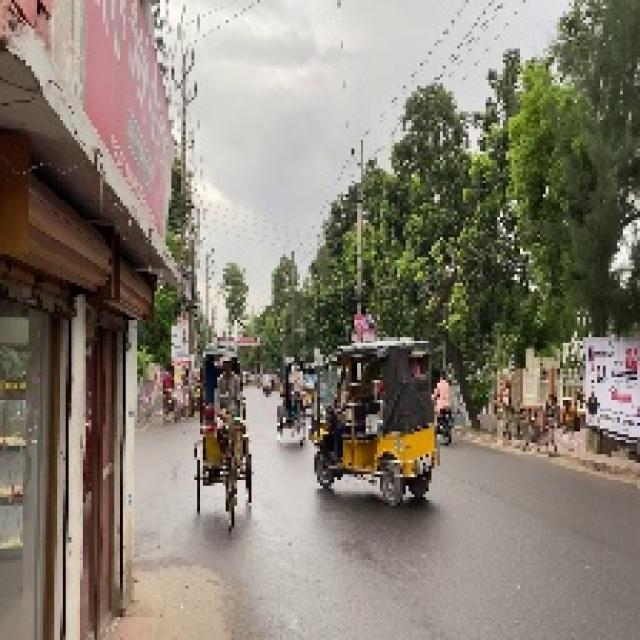rickshaw: (307, 326, 452, 509), (191, 332, 262, 528), (276, 349, 310, 448)
